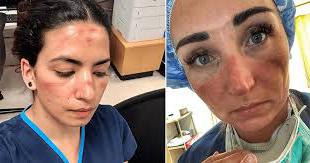without_mask: (181, 7, 281, 135), (34, 51, 110, 128)
